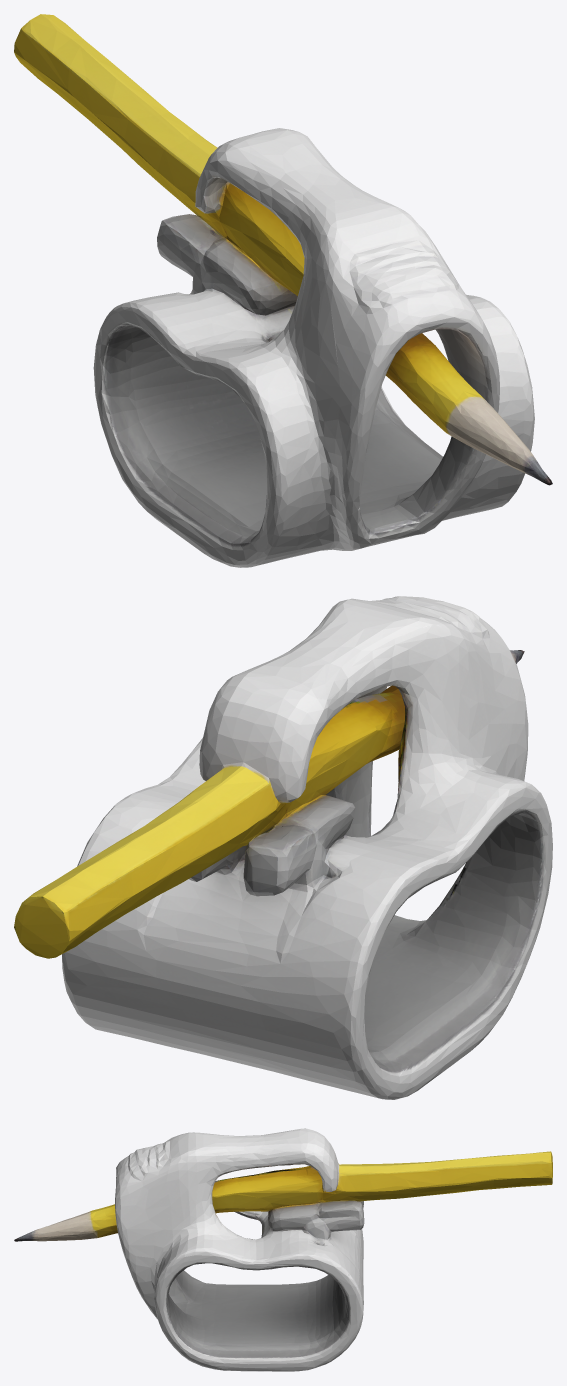
Rendered from agarreLapizAdaptado.glb.
3 views of the same model, one above another, from view 1: azimuth 30°, elevation 25°; view 2: azimuth 150°, elevation 25°; view 3: azimuth 270°, elevation 25° (orthographic). The views are drawn at different scales.
Parts seen in each view (by area): view 1: world; view 2: world; view 3: world.
Boxes of the visible parts, x1,y1,x2,y2 form: world: (14, 14, 552, 567); world: (14, 596, 552, 1099); world: (14, 1128, 552, 1371).
Bounding box in the file's own units: 0.3237 × 0.4019 × 0.9915.
1 material, 1 textured.
